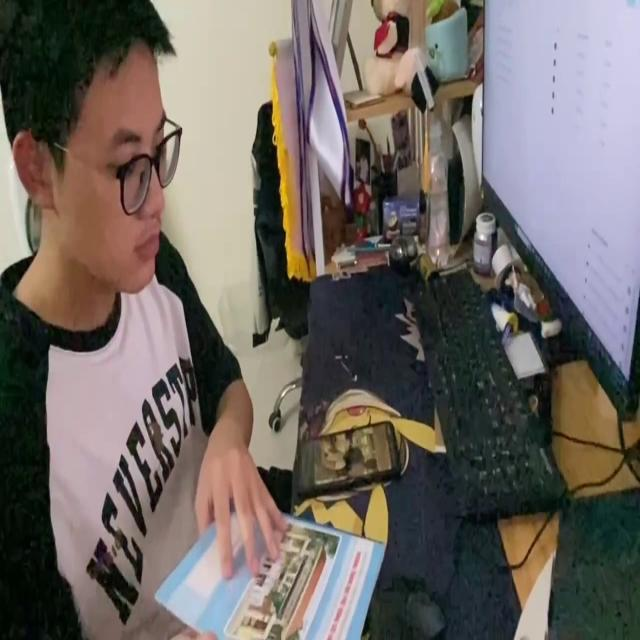book: (151, 497, 385, 640)
laptop: (481, 0, 640, 422)
phone: (294, 418, 401, 493)
student: (2, 0, 288, 640)
